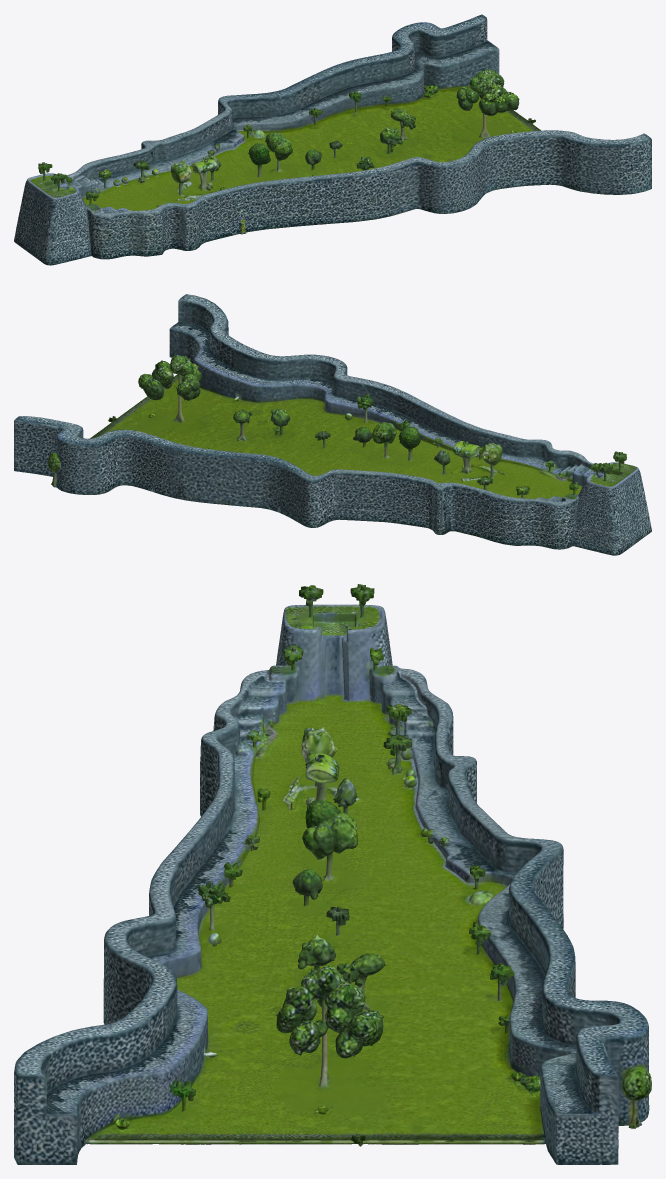
The model's file is raigad.glb.
3 renders of one model, top to bottom at view 1: azimuth 30°, elevation 25°; view 2: azimuth 150°, elevation 25°; view 3: azimuth 270°, elevation 25°, orthographic. The views are drawn at different scales.
Parts seen in each view (by area): view 1: tripo_node_73be5bc3-41dd-41f2-8cf1-9534cc6c2a8d; view 2: tripo_node_73be5bc3-41dd-41f2-8cf1-9534cc6c2a8d; view 3: tripo_node_73be5bc3-41dd-41f2-8cf1-9534cc6c2a8d.
Boxes of the visible parts, x1,y1,x2,y2 form: tripo_node_73be5bc3-41dd-41f2-8cf1-9534cc6c2a8d: (14, 14, 651, 265); tripo_node_73be5bc3-41dd-41f2-8cf1-9534cc6c2a8d: (14, 294, 651, 555); tripo_node_73be5bc3-41dd-41f2-8cf1-9534cc6c2a8d: (14, 584, 651, 1164).
Size of the model in its own units: 0.9797 by 0.141 by 0.5752.
1 material, 1 textured.
